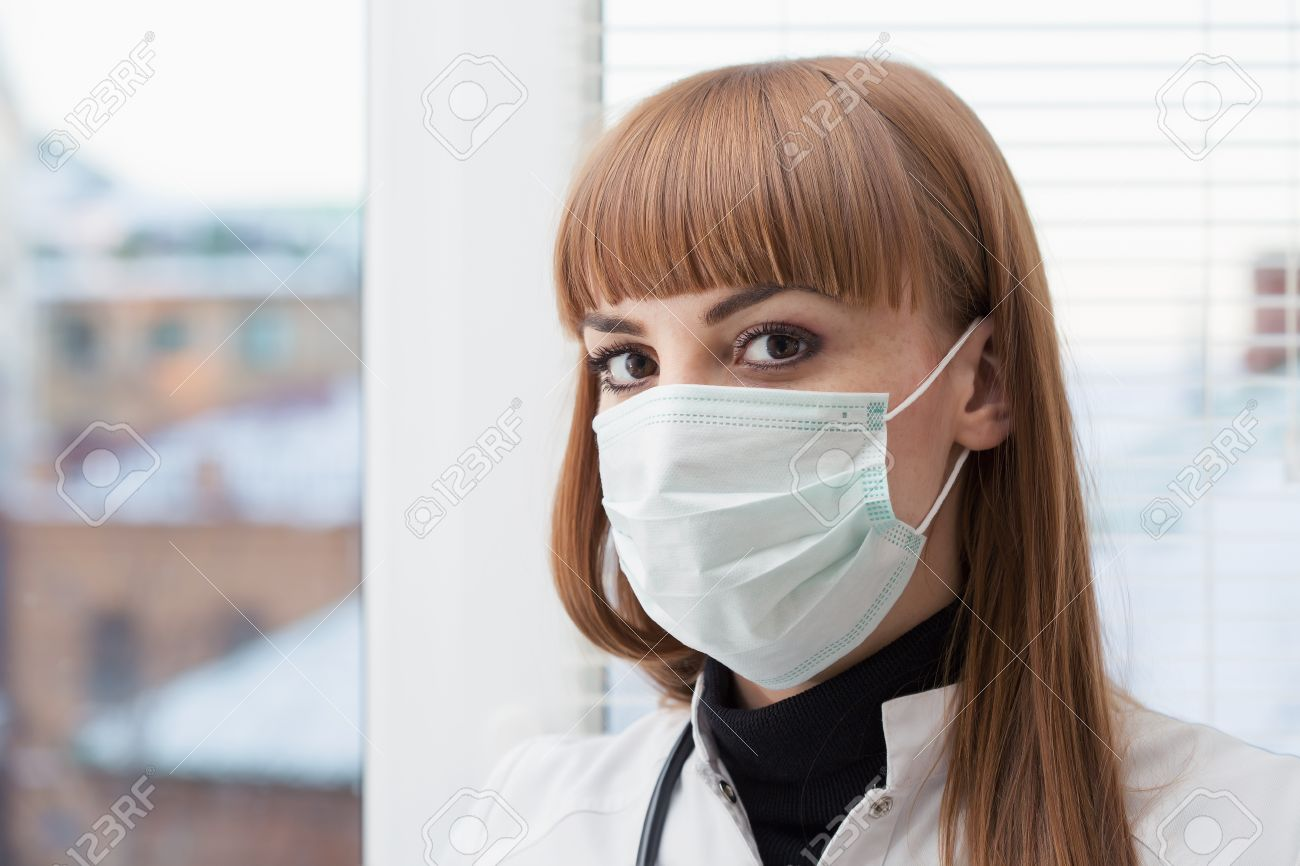surgical: (561, 377, 929, 698)
